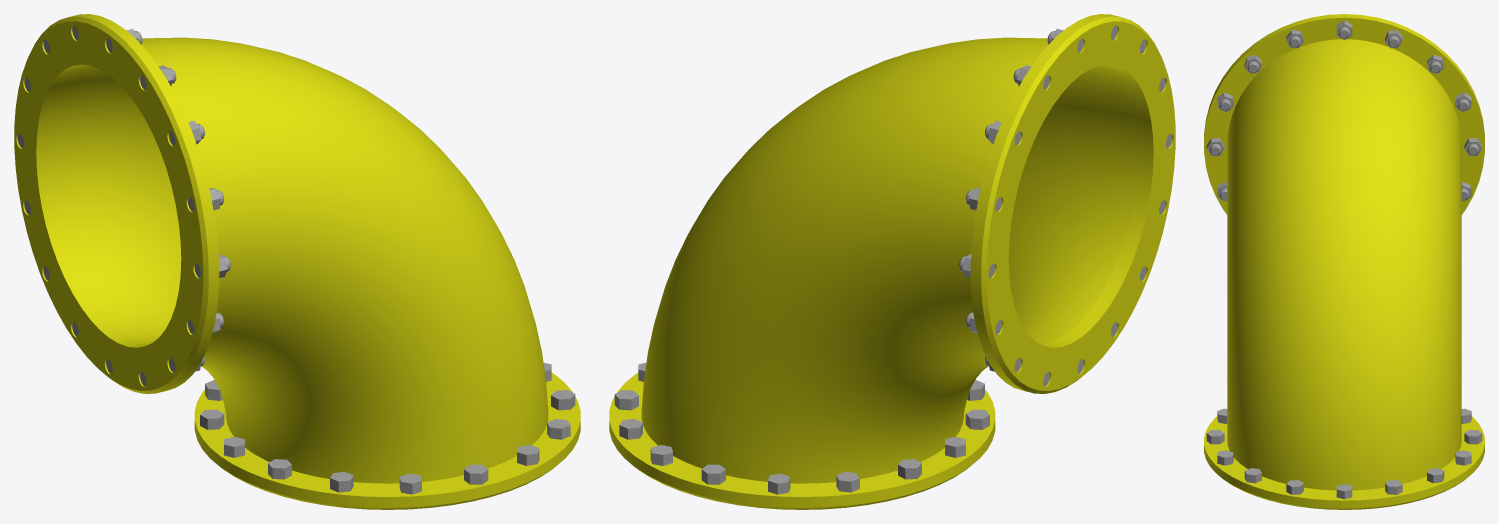
File: pipe_with_bend.obj
The picture shows the model from 3 angles, left to right: view 1: azimuth 30°, elevation 25°; view 2: azimuth 150°, elevation 25°; view 3: azimuth 270°, elevation 25°; orthographic projection. The views are drawn at different scales.
Visible parts, largest first — view 1: pipe, bolts; view 2: pipe, bolts; view 3: pipe, bolts.
Part boxes in pixels (x1,y1,x2,y2): pipe: [14, 14, 580, 509]; bolts: [17, 25, 575, 494]; pipe: [609, 14, 1175, 509]; bolts: [614, 25, 1172, 494]; pipe: [1204, 14, 1484, 509]; bolts: [1206, 20, 1482, 499].
Bounding box in the file's own units: 1.6 × 1.6 × 1.2.
Materials: 2 (1 with a texture image).
